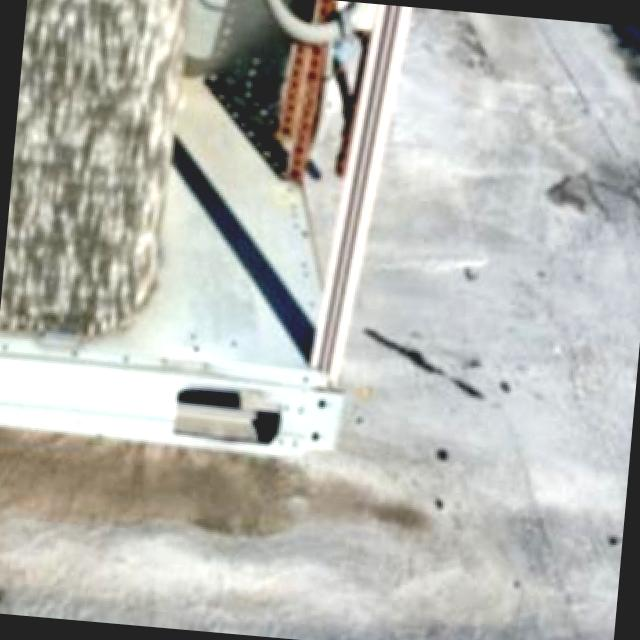RTU: (0, 0, 423, 470)
